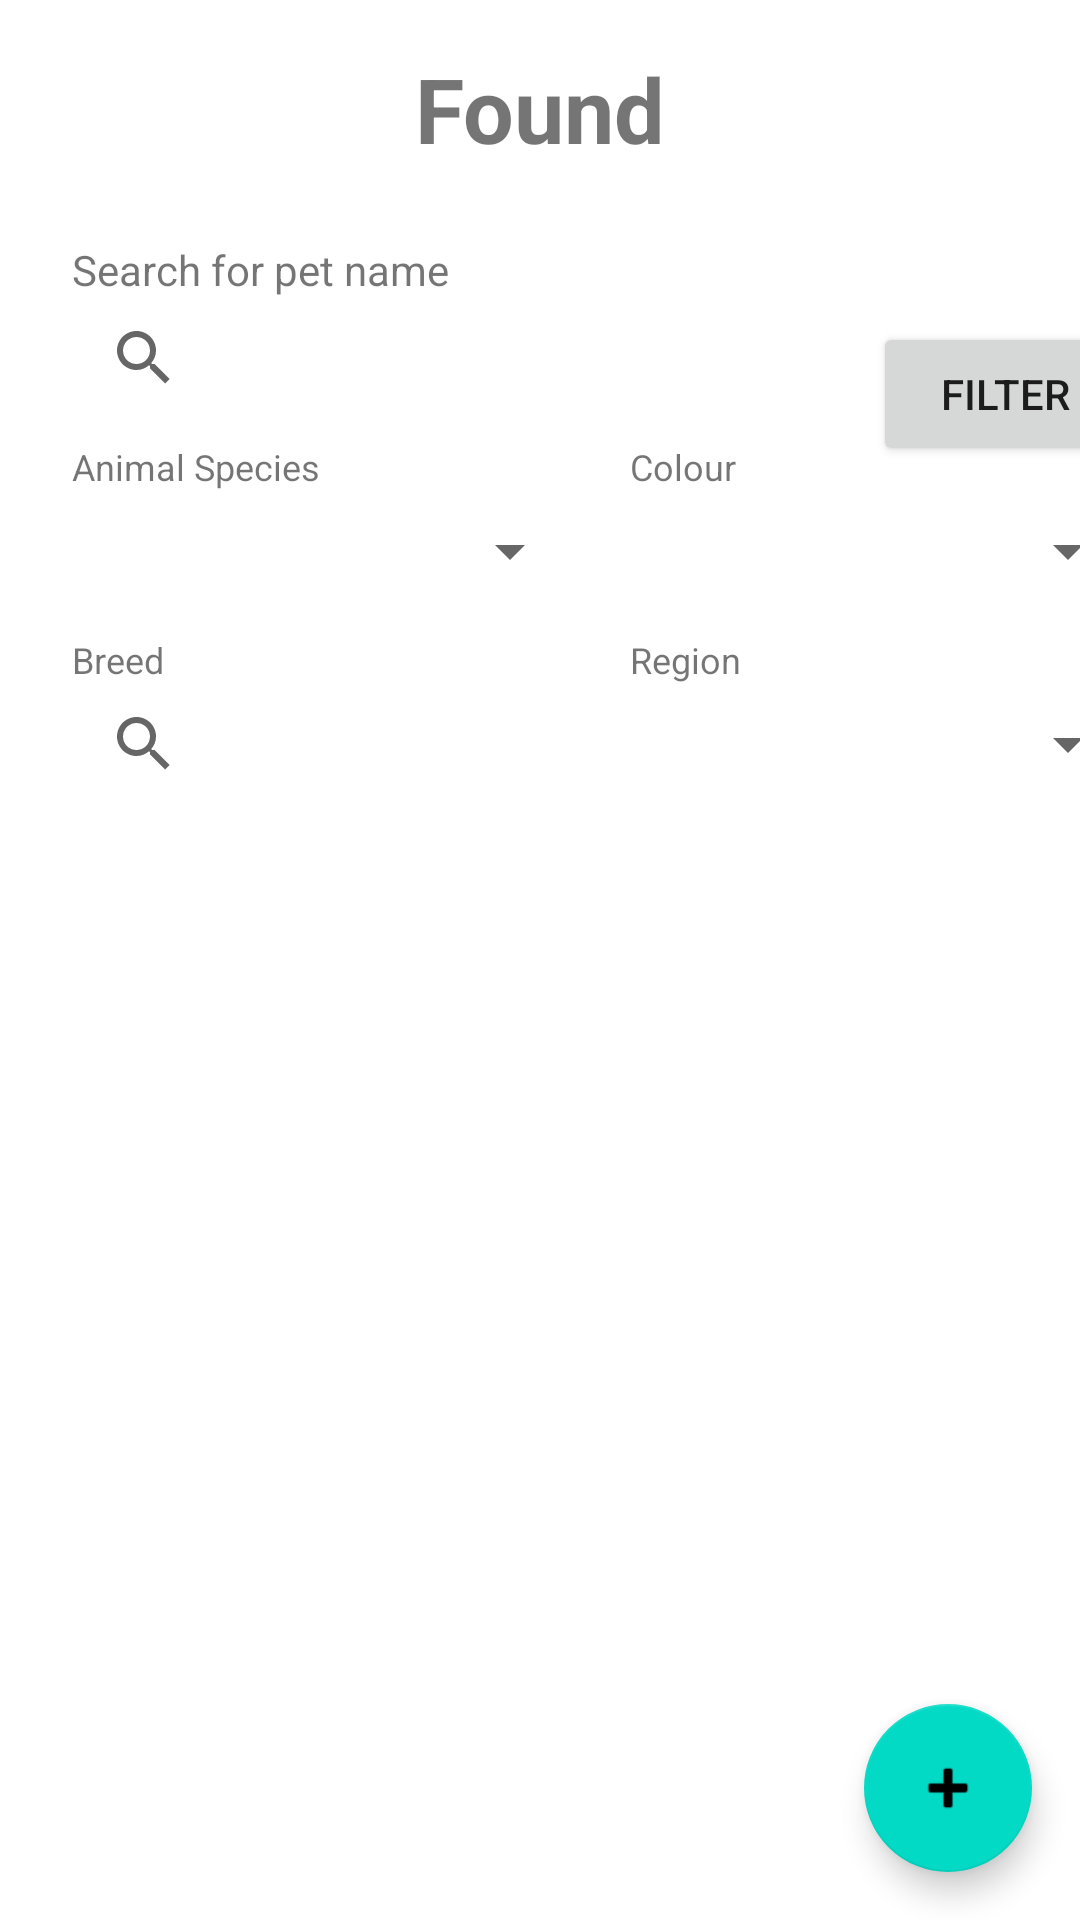

Screen size 1080w x 1920h. Icon name, then its box in pixels as (x1,y1,x2,y2):
Create found pet report: (864,1704,1032,1872)
